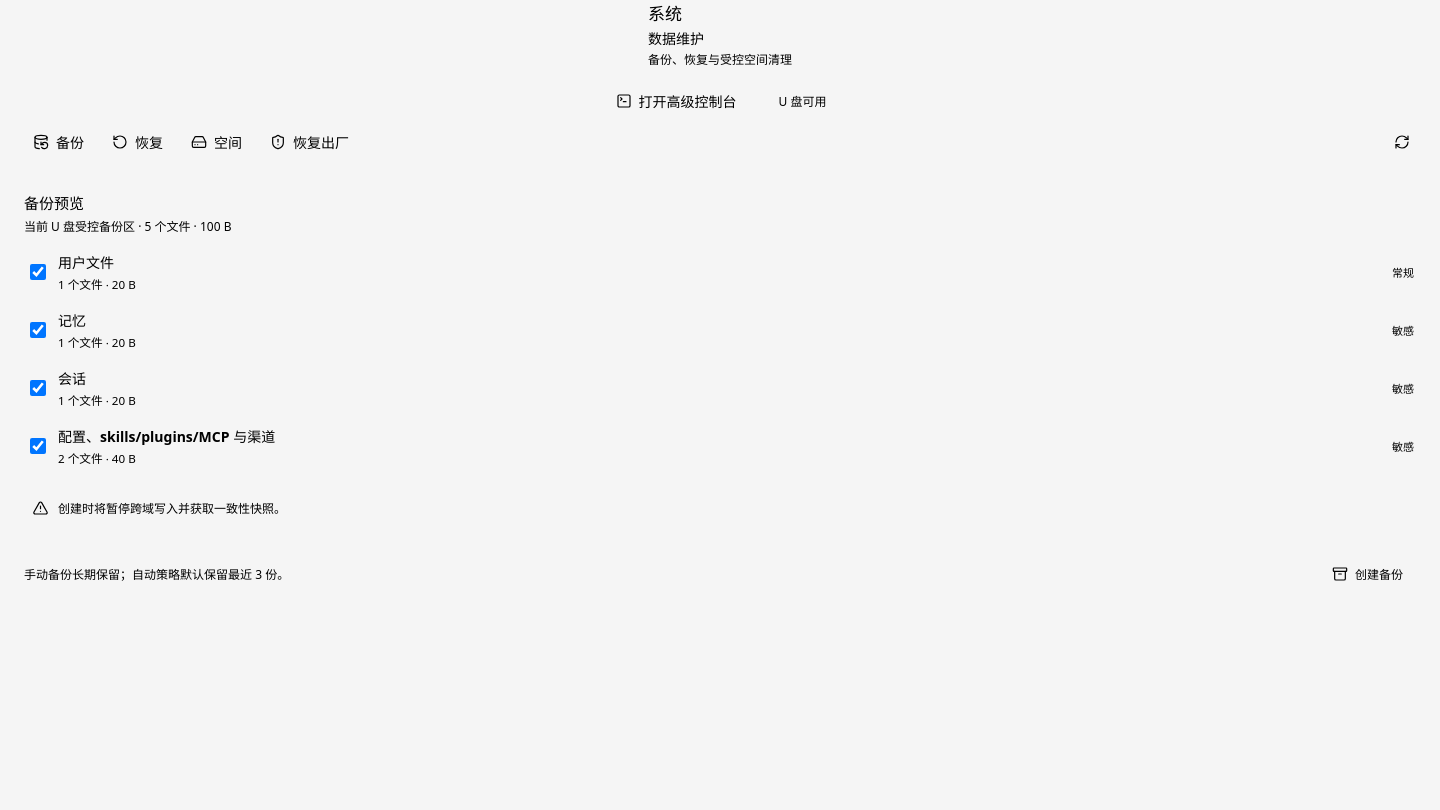
MaintenanceCenter › binds backup creation to preview and explicit confirmation
The image size is (1440, 810).
Expected: the text "用户文件" is shown, [58,253,114,272]
Click the button "创建备份": coordinates (1368, 574) [1319,555,1416,593]
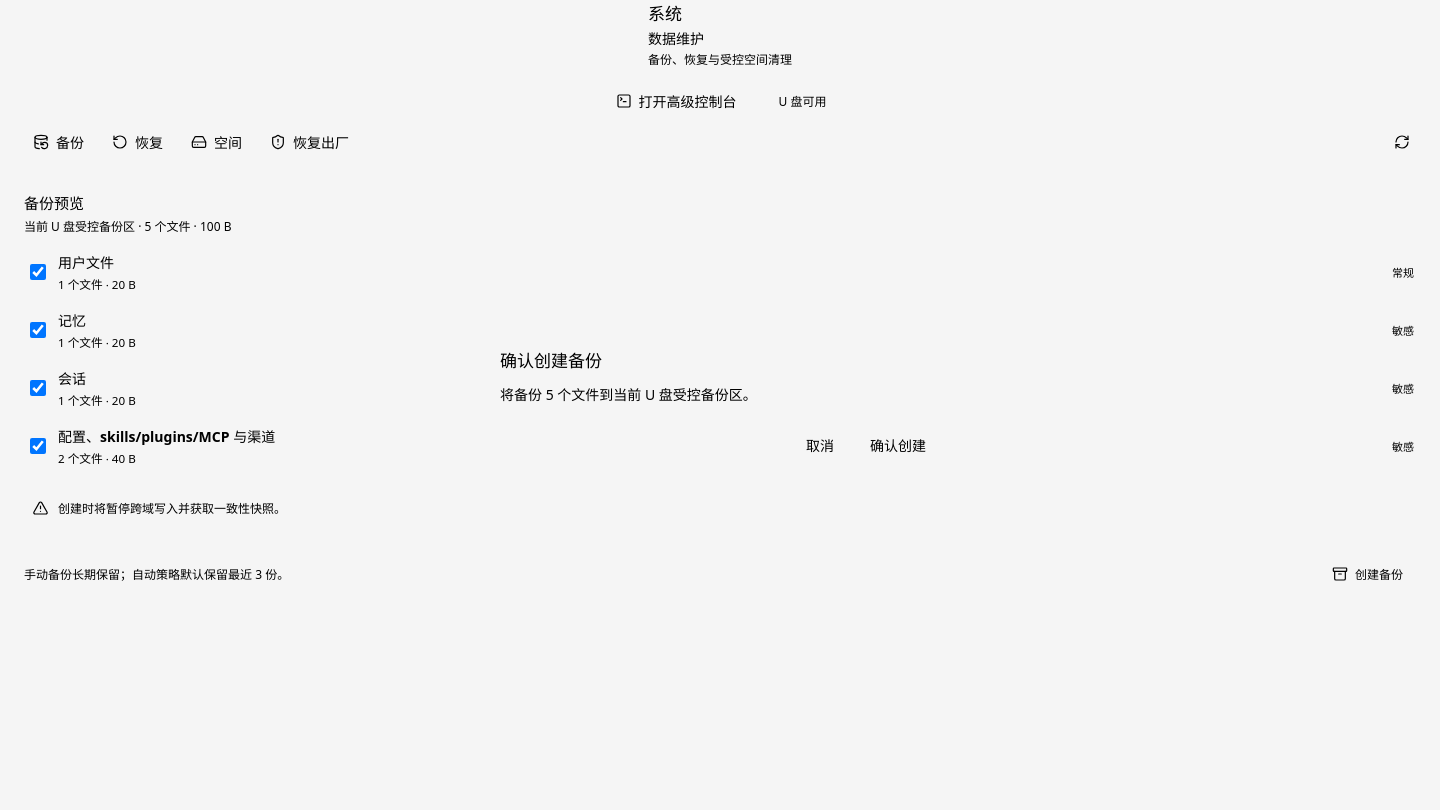
Click the button "确认创建": coordinates (898, 445) [856,427,940,463]
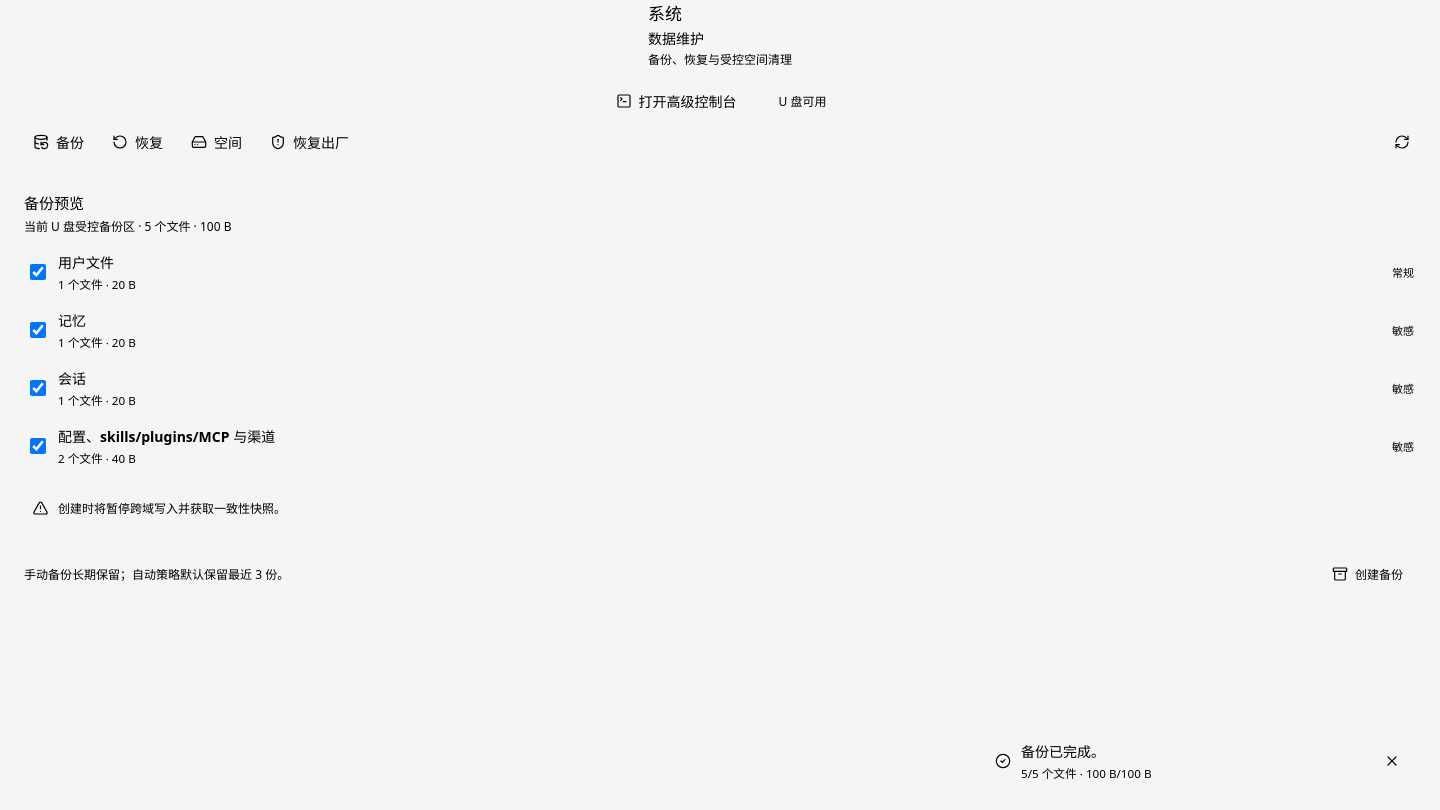
Result: the text "备份已完成。" is shown at [1021,742,1105,761]
